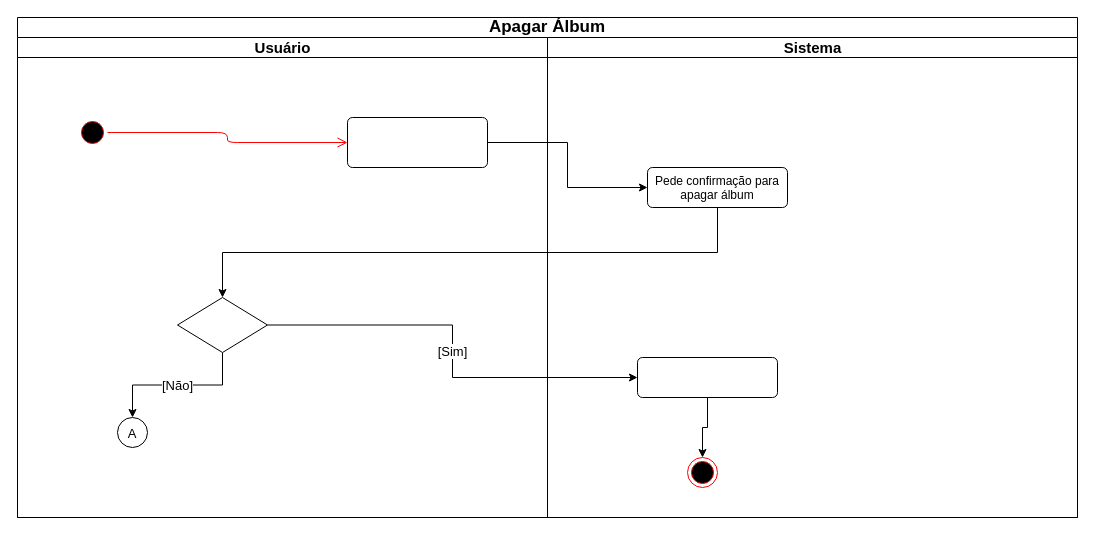
The diagram is 1095 pixels wide and 535 high, and some of its shapes have lost their labels. The shapes that lost their labels are listed below. From the top down, each one's centre as x and y in pixels, then its label:
(x=417, y=142): Seleciona álbum que deseja apagar
(x=222, y=324): Confirma?
(x=707, y=377): Apaga álbum da galeria de álbuns
